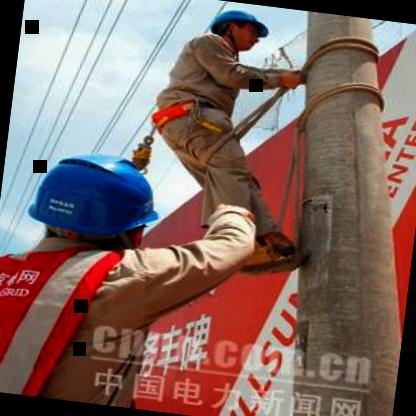helmet: (8, 132, 181, 281), (199, 0, 276, 58)
